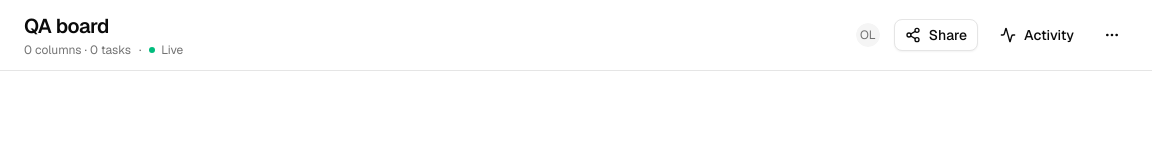
Test: BoardHeader keyboard focus › leaves focus on the clicked element when the editor is blurred by a click-away
The width and height of the screenshot is (1152, 160).
Click the button "QA board" at (66, 26), box top-left (24, 12), bottom-right (109, 40)
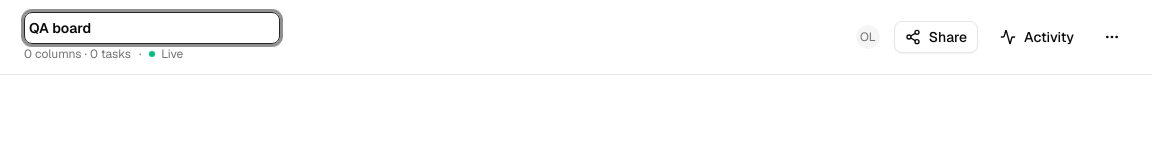
Click the button with aria-label "View members" at (868, 37), box top-left (854, 23), bottom-right (882, 51)
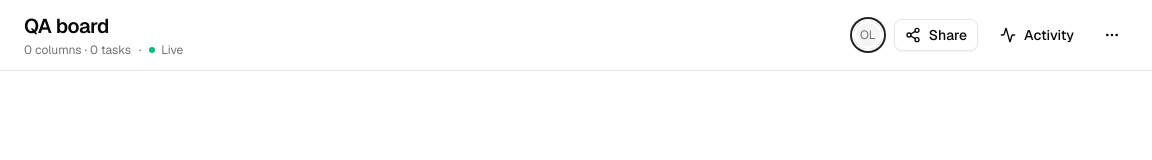
Result: the field is gone
